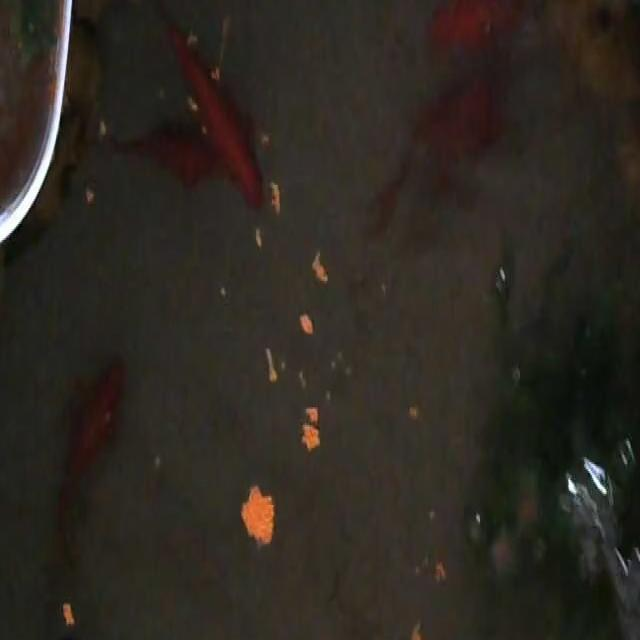fish: (366, 63, 512, 239), (182, 0, 264, 226), (54, 352, 128, 570), (123, 112, 216, 191), (428, 0, 533, 57)
